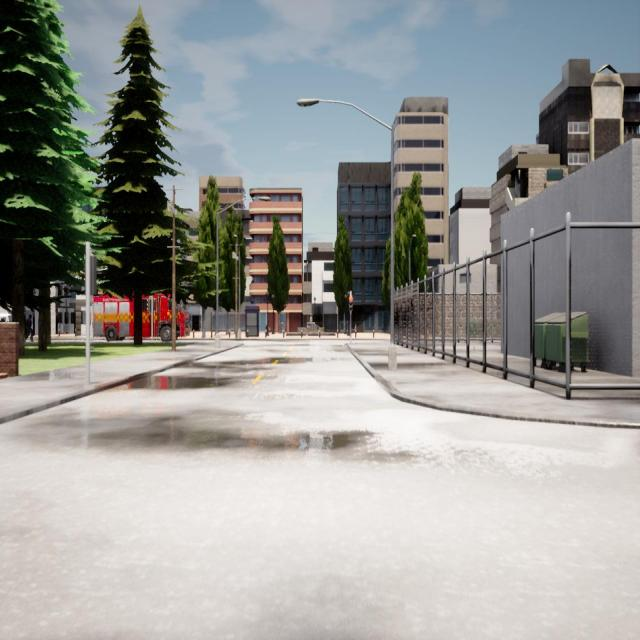Pedestrian: (24, 313, 34, 341)
Vehicle: (93, 295, 188, 341)
traffic_light: (91, 257, 96, 294), (349, 296, 353, 310)
